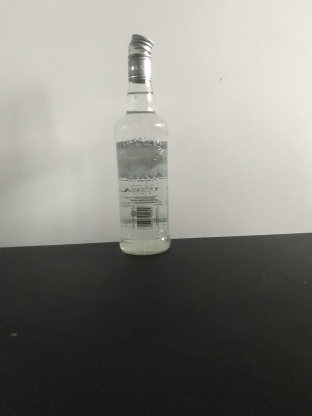nakretka: (126, 32, 155, 84)
